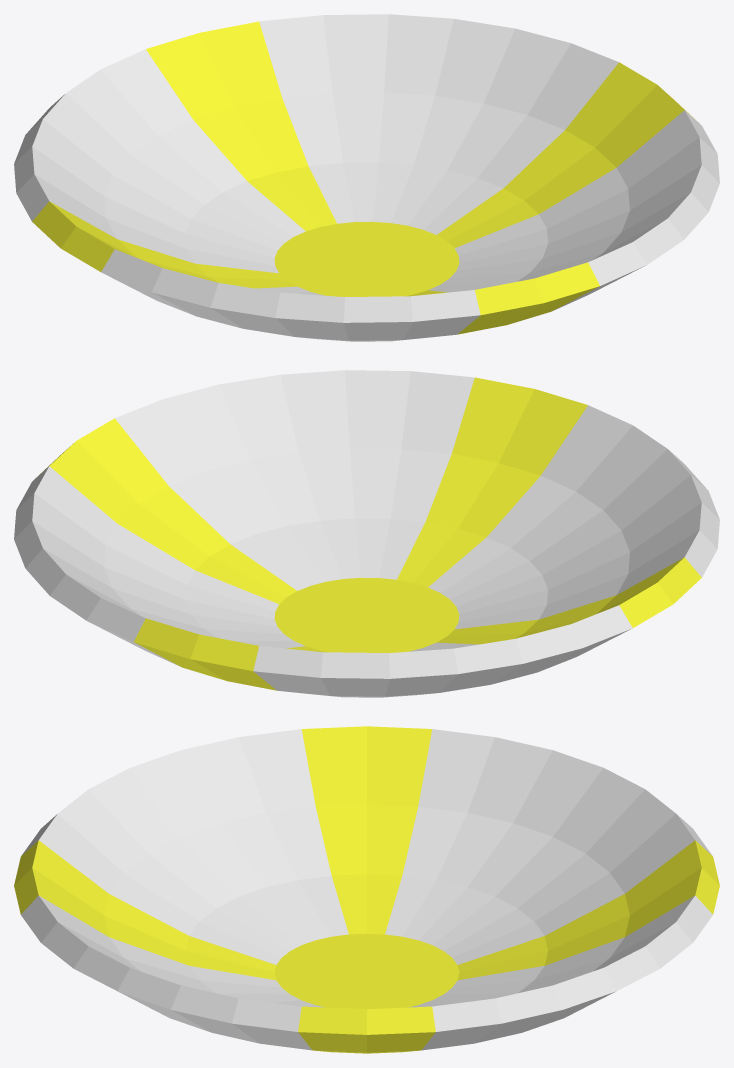
File: MiniRoundHole_25x25x5.fbx
3 views of the same model, one above another, from view 1: azimuth 30°, elevation 25°; view 2: azimuth 150°, elevation 25°; view 3: azimuth 270°, elevation 25° (orthographic).
Visible parts, largest first — view 1: MiniRoundHole_25x25x5; view 2: MiniRoundHole_25x25x5; view 3: MiniRoundHole_25x25x5.
Part boxes in pixels (box(x1,y1,x2,y2)): MiniRoundHole_25x25x5: box(14, 14, 719, 341); MiniRoundHole_25x25x5: box(14, 370, 719, 697); MiniRoundHole_25x25x5: box(14, 726, 719, 1053).
Bounding box in the file's own units: 25 × 25 × 5.
